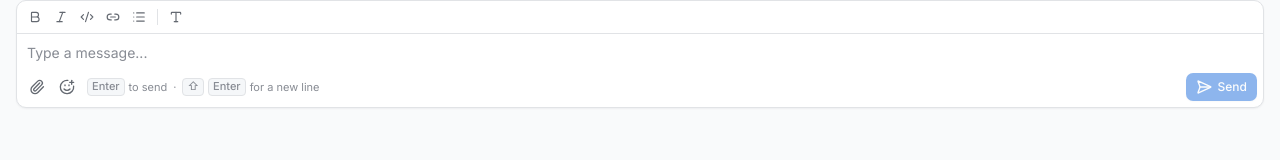
Scenario: slash command autocomplete › completes the command on Enter without sending a message
Type "/wea" into the text box at [640, 53], box [17,34,1263,73]
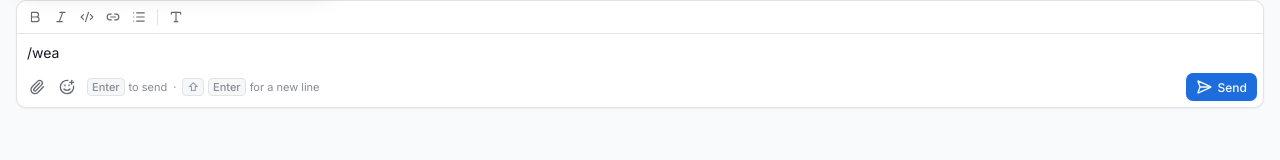
Press Enter in the text box, box [17,34,1263,73]
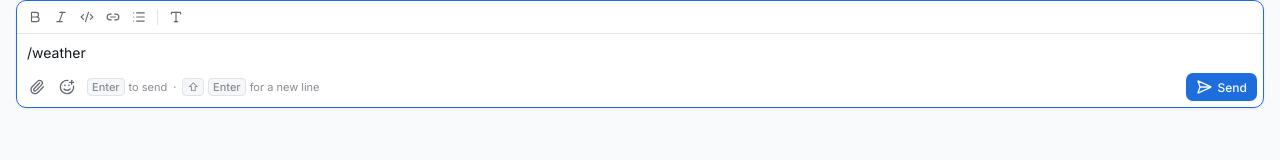
Check: the text box holds "/weather ", box [17,34,1263,73]
